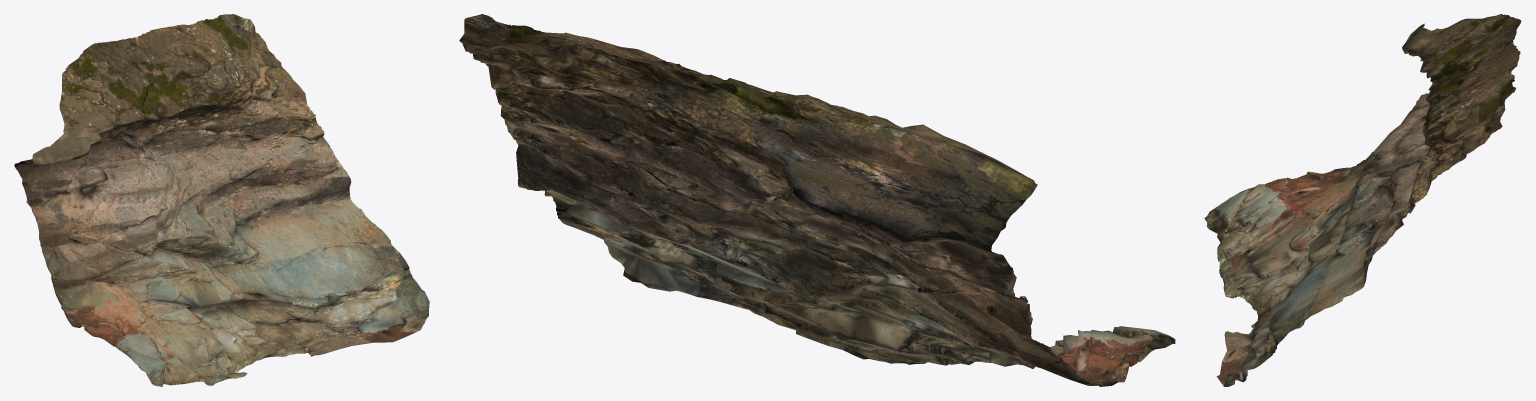
File: rock_face_01.glb
The picture shows the model from 3 angles, left to right: view 1: azimuth 30°, elevation 25°; view 2: azimuth 150°, elevation 25°; view 3: azimuth 270°, elevation 25°; orthographic projection. The views are drawn at different scales.
Parts seen in each view (by area): view 1: Prop; view 2: Prop; view 3: Prop.
Boxes of the visible parts, x1,y1,x2,y2 form: Prop: (14, 14, 429, 386); Prop: (459, 14, 1175, 386); Prop: (1204, 14, 1521, 386).
Size of the model in its own units: 4.95 by 3.57 by 3.83.
1 material, 1 textured.
